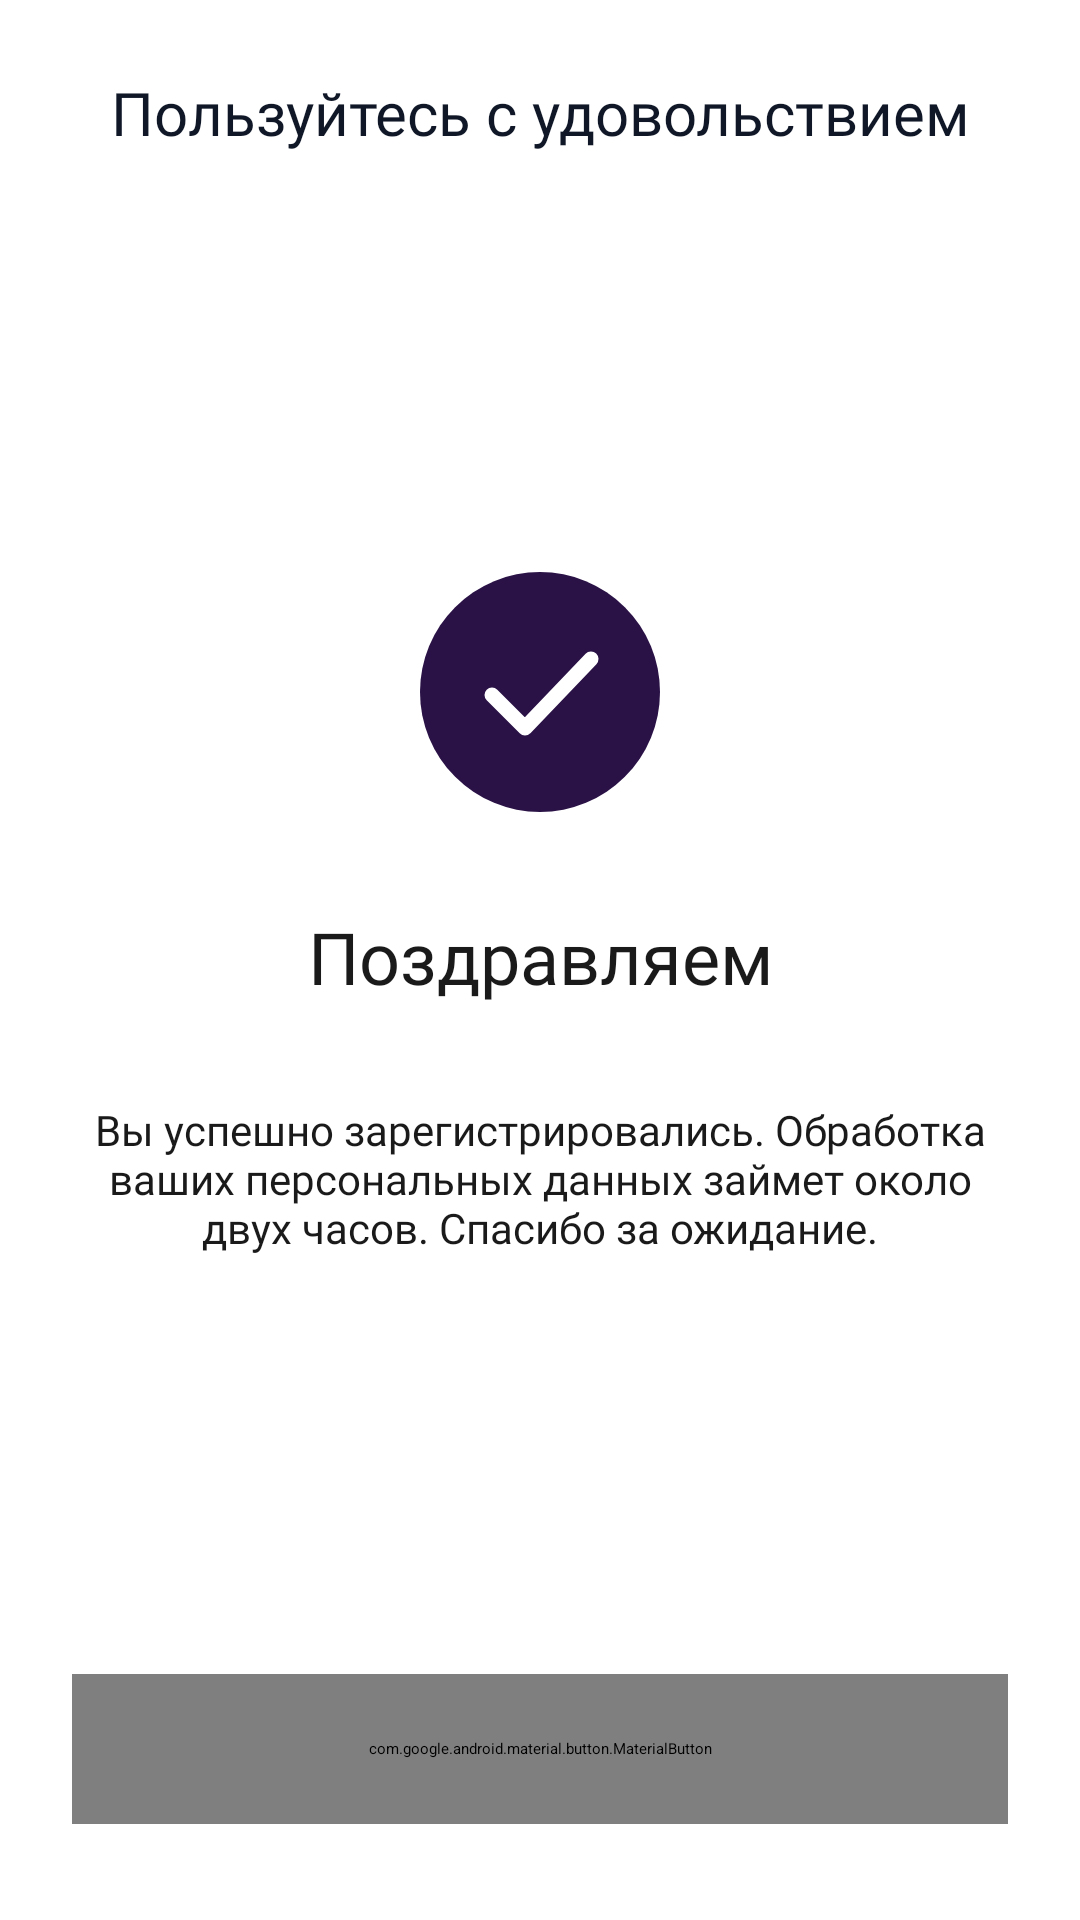

Icon click points for this 1080px×1920px phone screenshot, format [x,y]:
Регистрация успешна: [540,692]
